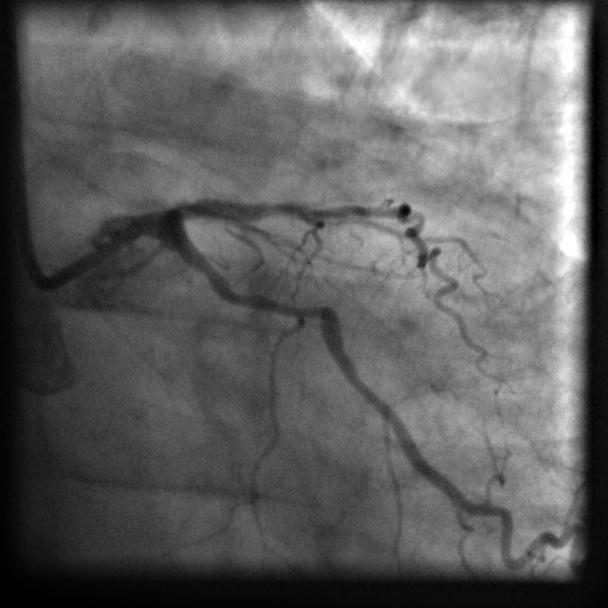Stenosis: (229, 280, 319, 325)
